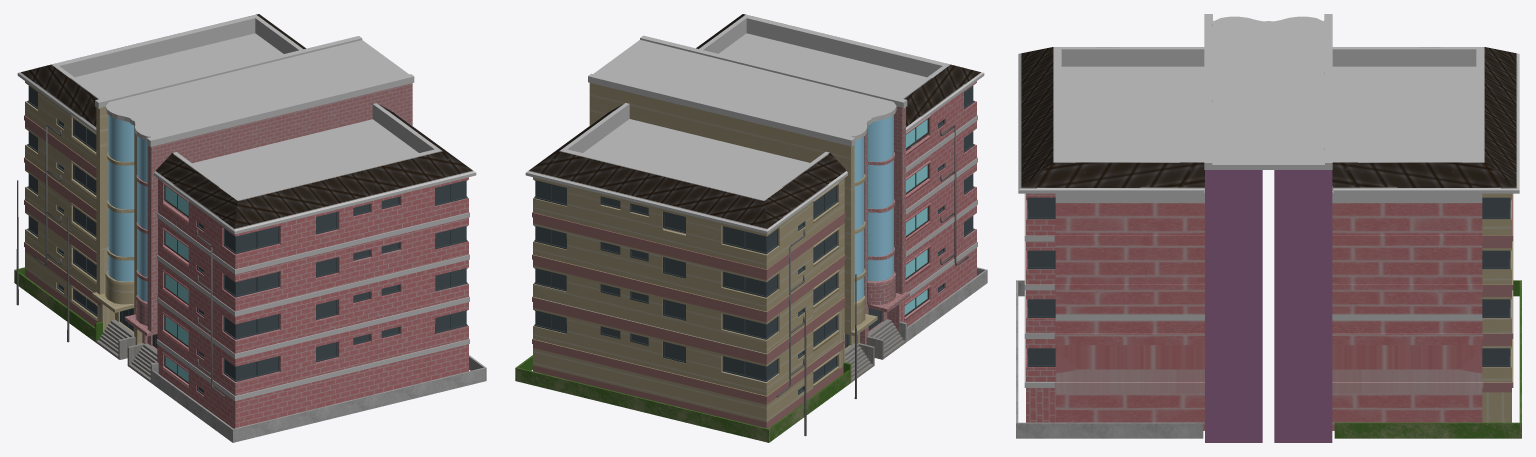
Rendered from stage2_building3(no mat).fbx.
3 views of the same model, side by side, from view 1: azimuth 30°, elevation 25°; view 2: azimuth 150°, elevation 25°; view 3: azimuth 270°, elevation 25° (orthographic). The views are drawn at different scales.
Parts seen in each view (by area): view 1: Cube.255, Cube.257, Cube.023, Cube.004, Cube.266, Cube.258, Cube.025, Cube.269, Cube.058, Cube.060, Cube.272, Cube.059 (+12 smaller); view 2: Cube.004, Cube.023, Cube.257, Cube.255, Cube.058, Cube.025, Cube.258, Cube.059, Cube.266, Cube.272, Cube.060, Cube.269 (+12 smaller); view 3: Cube.094, Cube.280, Cube.023, Cube.257, Cube.095, Cube.281, Cube.258, Cube.025, Cube.004, Cube.255, Cube.059, Cube.269 (+8 smaller).
Part boxes in pixels (<box>): Cube.255: <box>156,177,469,428</box>; Cube.257: <box>154,103,476,234</box>; Cube.023: <box>17,14,306,132</box>; Cube.004: <box>24,81,101,326</box>; Cube.266: <box>124,83,412,349</box>; Cube.258: <box>130,58,414,146</box>; Cube.025: <box>95,36,386,124</box>; Cube.269: <box>150,355,486,442</box>; Cube.058: <box>92,106,142,344</box>; Cube.060: <box>108,115,134,281</box>; Cube.272: <box>138,137,147,302</box>; Cube.059: <box>14,267,102,342</box>; Cube.004: <box>532,177,845,428</box>; Cube.023: <box>525,102,847,234</box>; Cube.257: <box>696,14,984,132</box>; Cube.255: <box>899,81,977,326</box>; Cube.058: <box>589,83,877,373</box>; Cube.025: <box>588,57,871,146</box>; Cube.258: <box>617,35,907,124</box>; Cube.059: <box>515,355,851,442</box>; Cube.266: <box>860,106,909,344</box>; Cube.272: <box>868,115,893,281</box>; Cube.060: <box>854,136,864,302</box>; Cube.269: <box>899,267,987,342</box>; Cube.094: <box>1332,187,1483,430</box>; Cube.280: <box>1054,189,1204,430</box>; Cube.023: <box>1332,47,1519,193</box>; Cube.257: <box>1018,47,1204,193</box>; Cube.095: <box>1274,170,1332,442</box>; Cube.281: <box>1205,170,1262,442</box>; Cube.258: <box>1204,14,1270,169</box>; Cube.025: <box>1267,14,1332,169</box>; Cube.004: <box>1482,193,1513,422</box>; Cube.255: <box>1024,193,1055,422</box>; Cube.059: <box>1334,280,1521,438</box>; Cube.269: <box>1016,280,1203,438</box>.
Size of the model in its own units: 7483 by 6274 by 10104.
